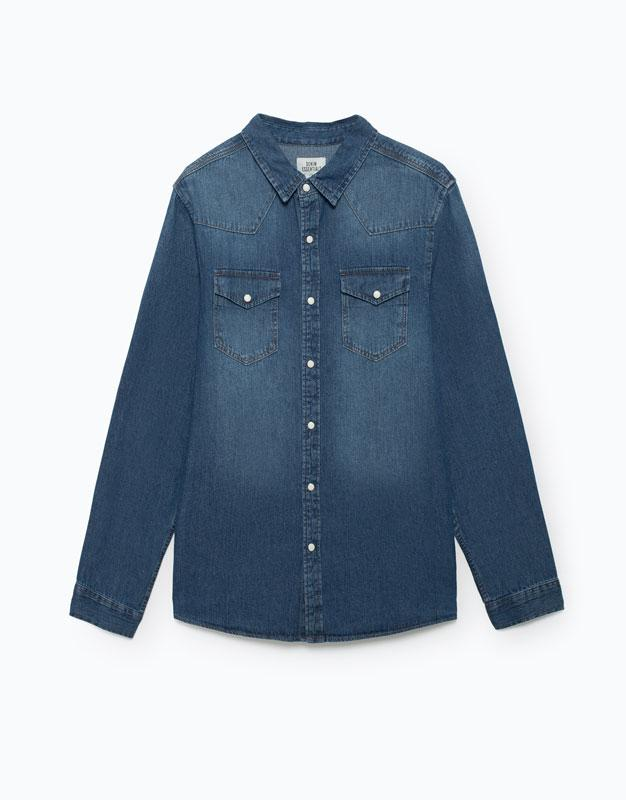teeshirt: (68, 103, 583, 670)
